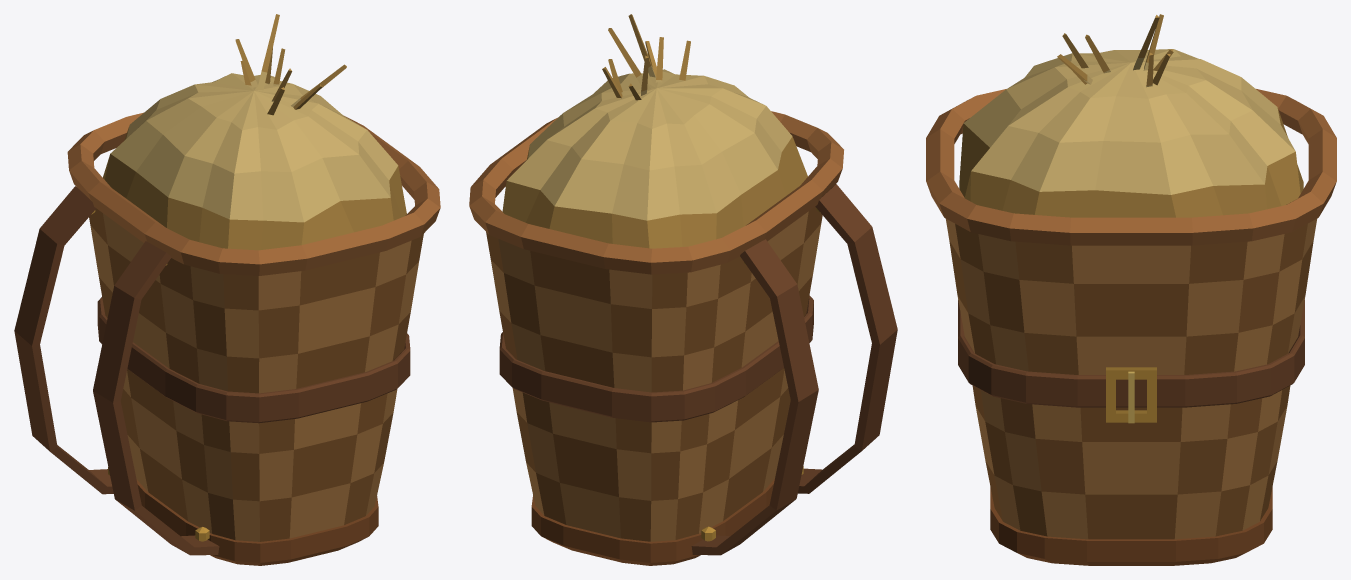
File: backpack_basket.glb
3 views of the same model, side by side, from view 1: azimuth 30°, elevation 25°; view 2: azimuth 150°, elevation 25°; view 3: azimuth 270°, elevation 25° (orthographic). The views are drawn at different scales.
Parts seen in each view (by area): view 1: backpack_basket; view 2: backpack_basket; view 3: backpack_basket.
Part boxes in pixels (bbox=[...]): backpack_basket: bbox=[14, 14, 440, 565]; backpack_basket: bbox=[469, 14, 897, 565]; backpack_basket: bbox=[926, 14, 1336, 565].
Size of the model in its own units: 0.5016 by 0.7028 by 0.4965.
